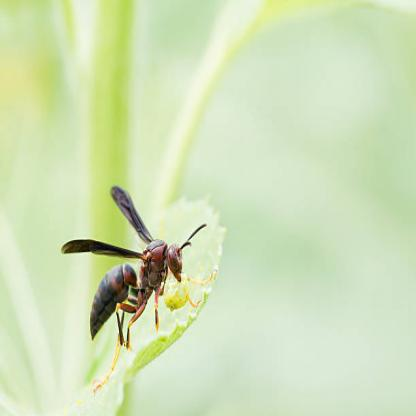sawfly: (60, 184, 215, 394)
